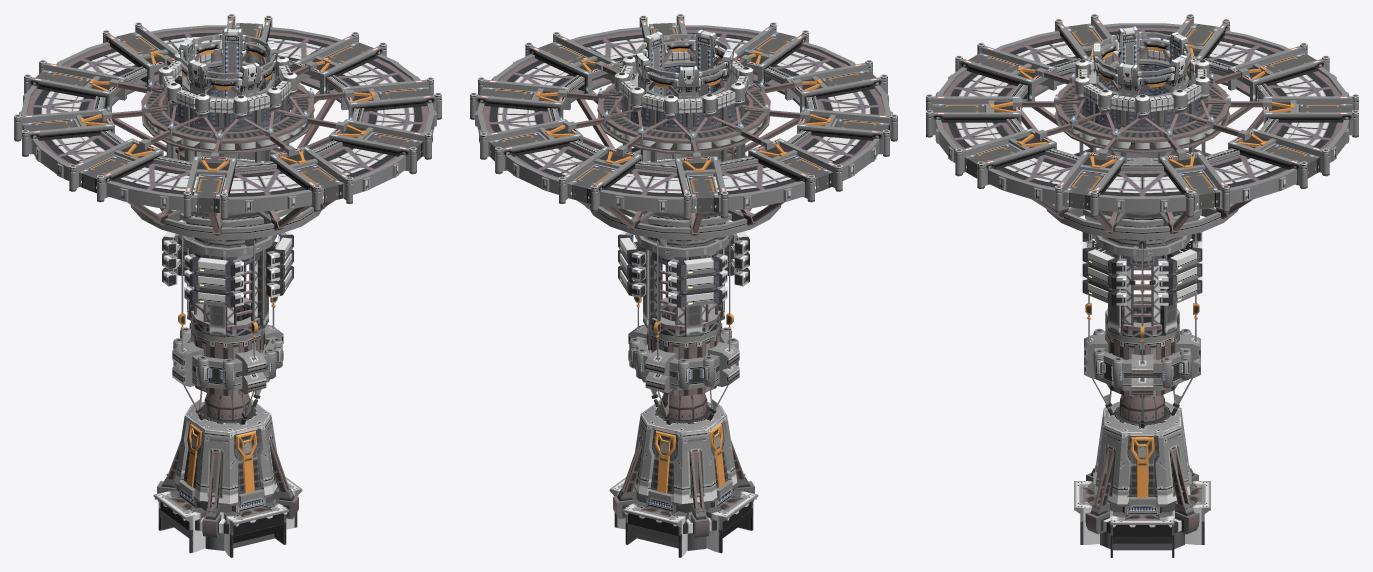
3 renders of one model, left to right at view 1: azimuth 30°, elevation 25°; view 2: azimuth 150°, elevation 25°; view 3: azimuth 270°, elevation 25°, orthographic.
Visible parts, largest first — view 1: interstellar-logistic-station; view 2: interstellar-logistic-station; view 3: interstellar-logistic-station.
Boxes of the visible parts, <box> form: interstellar-logistic-station: <box>14,14,441,557</box>; interstellar-logistic-station: <box>470,14,897,557</box>; interstellar-logistic-station: <box>926,14,1358,557</box>.
Size of the model in its own units: 27.94 by 35.25 by 28.49.
Materials: 2 (1 with a texture image).
